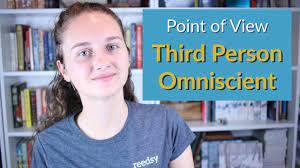Persons: (47, 1, 138, 113)
